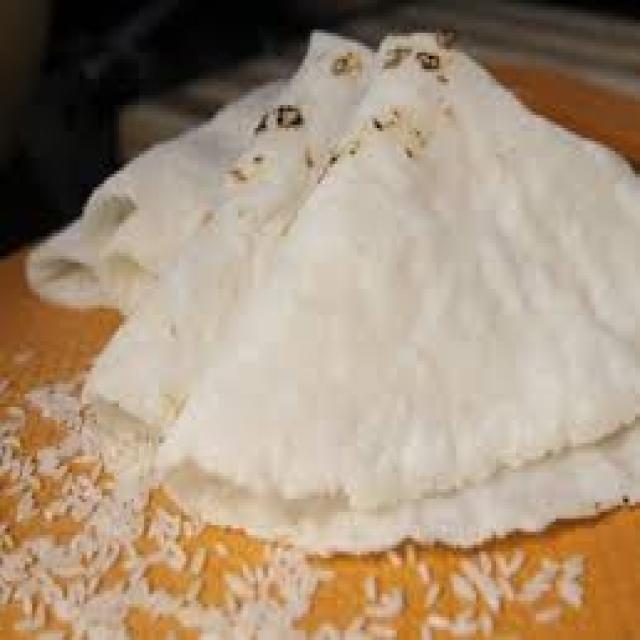ROTI: (159, 36, 638, 548), (87, 33, 377, 417), (30, 82, 285, 299)
